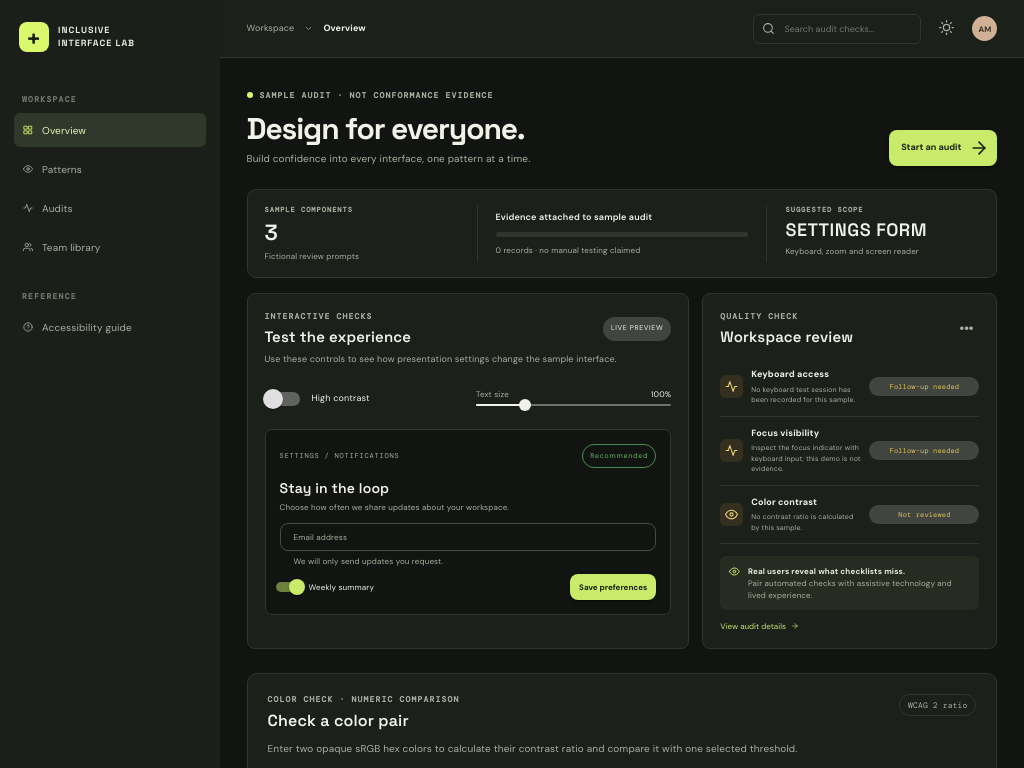
Test: Inclusive Interface Lab › renders the component audit workspace
Expected: the heading "Design for everyone." is shown, [246,109,530,148]
Expected: the text "SAMPLE AUDIT · NOT CONFORMANCE EVIDENCE" is shown, [246,90,530,100]
Click the checkbox named "High contrast mode": (316, 398) [262,388,370,408]
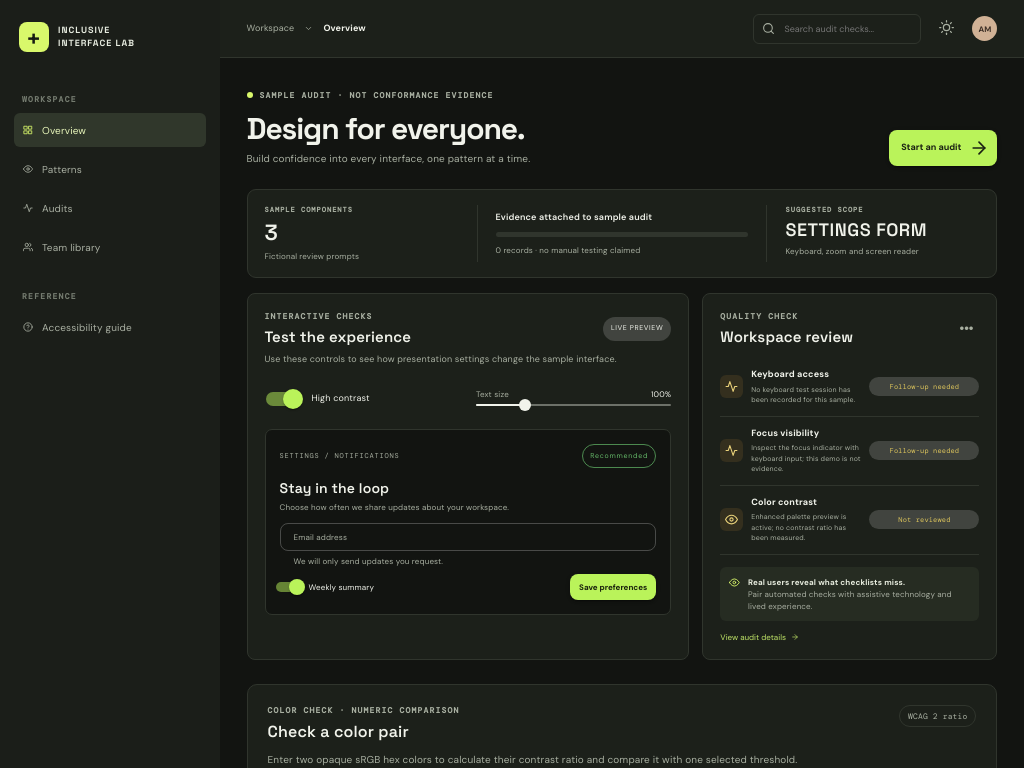
Expected: the text "no contrast ratio has been measured" is shown, [751,512,846,542]
